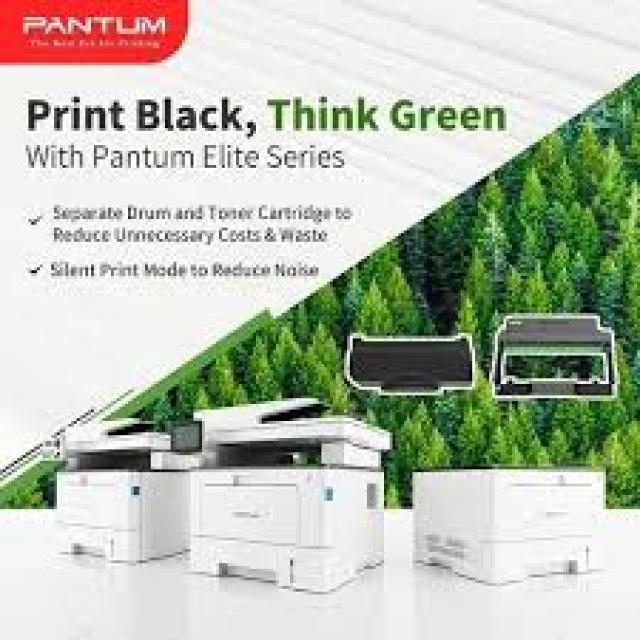printer: (51, 395, 393, 592)
